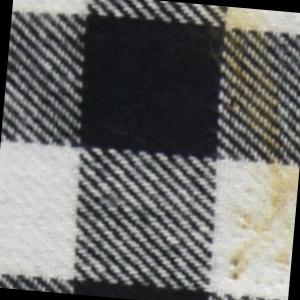Oil Stain: (177, 4, 300, 285)
